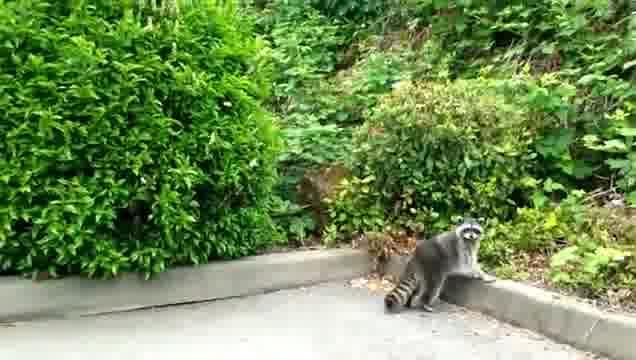raccoon: (381, 218, 499, 310)
